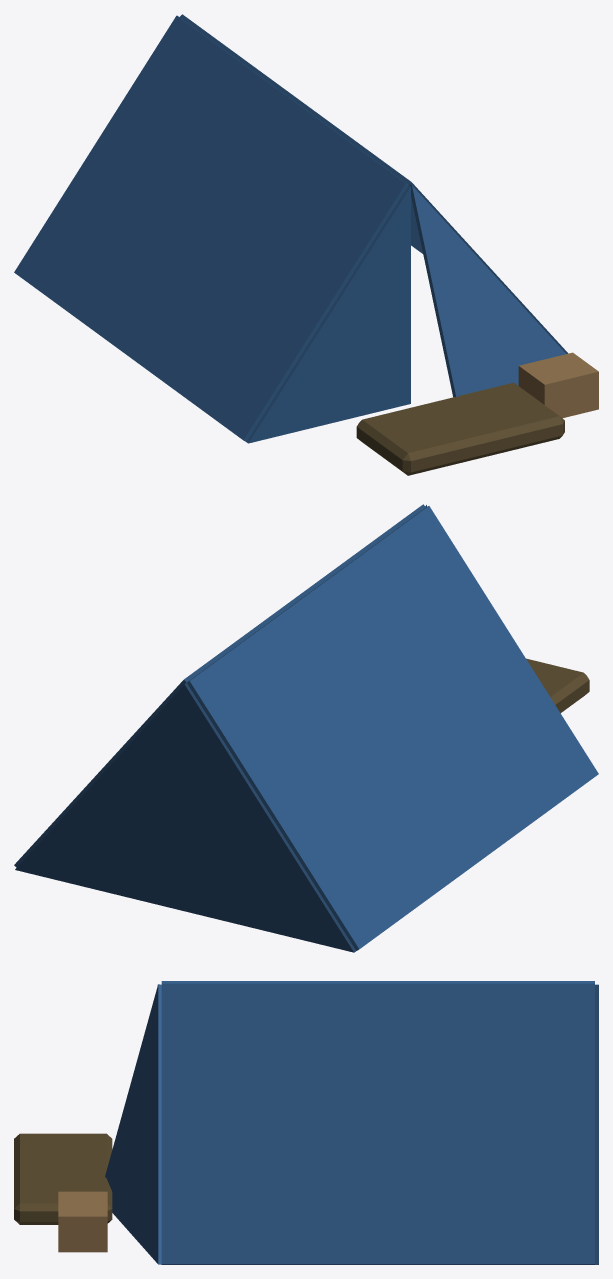
The model's file is tent.glb.
The picture shows the model from 3 angles, top to bottom: view 1: azimuth 30°, elevation 25°; view 2: azimuth 150°, elevation 25°; view 3: azimuth 270°, elevation 25°; orthographic projection. The views are drawn at different scales.
Visible parts, largest first — view 1: tent; view 2: tent; view 3: tent.
Part boxes in pixels (<box>): tent: <box>14,14,598,475</box>; tent: <box>14,504,598,952</box>; tent: <box>14,981,598,1264</box>.
Size of what is drawn, in the model's own units: 1.83 by 1.16 by 2.97.
